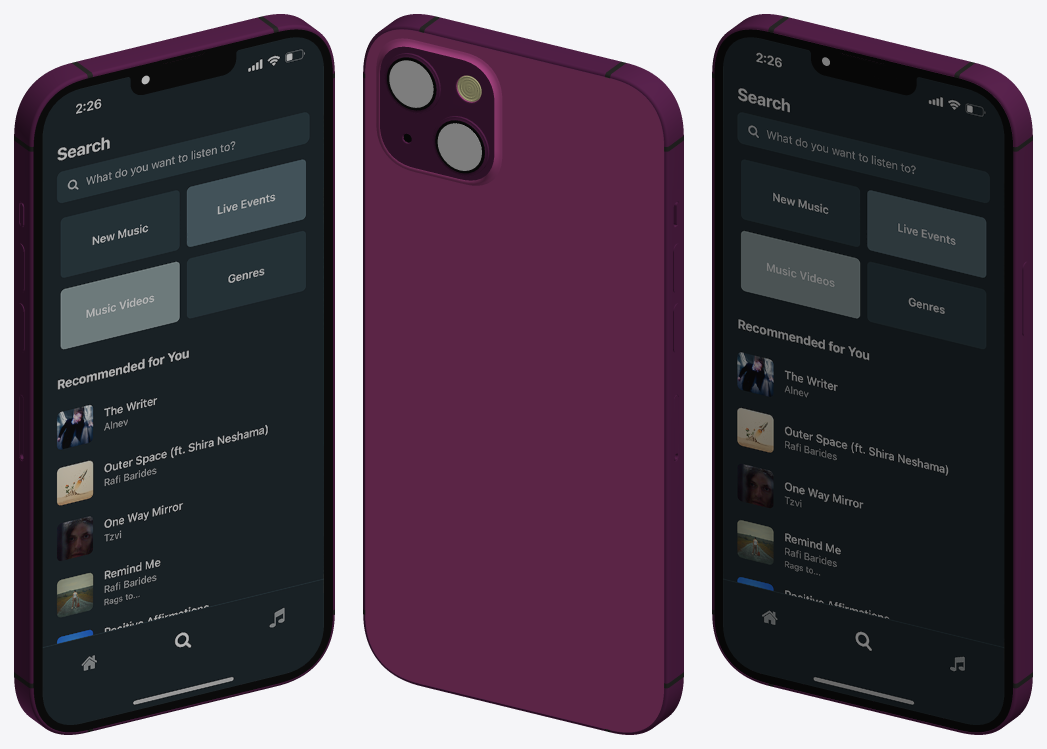
File: mockup.glb
3 views of the same model, side by side, from view 1: azimuth 30°, elevation 25°; view 2: azimuth 150°, elevation 25°; view 3: azimuth 330°, elevation 25° (orthographic).
Visible parts, largest first — view 1: Body, Buttons; view 2: Body, Cam Bump, Cameras, Buttons; view 3: Body, Buttons.
Boxes of the visible parts, left/top/right/bottom form: Body: left=14, top=14, right=334, bottom=734; Buttons: left=17, top=203, right=24, bottom=352; Body: left=363, top=14, right=683, bottom=734; Cam Bump: left=376, top=38, right=502, bottom=185; Cameras: left=384, top=53, right=489, bottom=176; Buttons: left=673, top=202, right=680, bottom=352; Body: left=712, top=14, right=1032, bottom=734; Buttons: left=1022, top=261, right=1029, bottom=336.
Size of the model in its own units: 1.33 by 2.72 by 0.1608.
11 materials, 1 textured.
